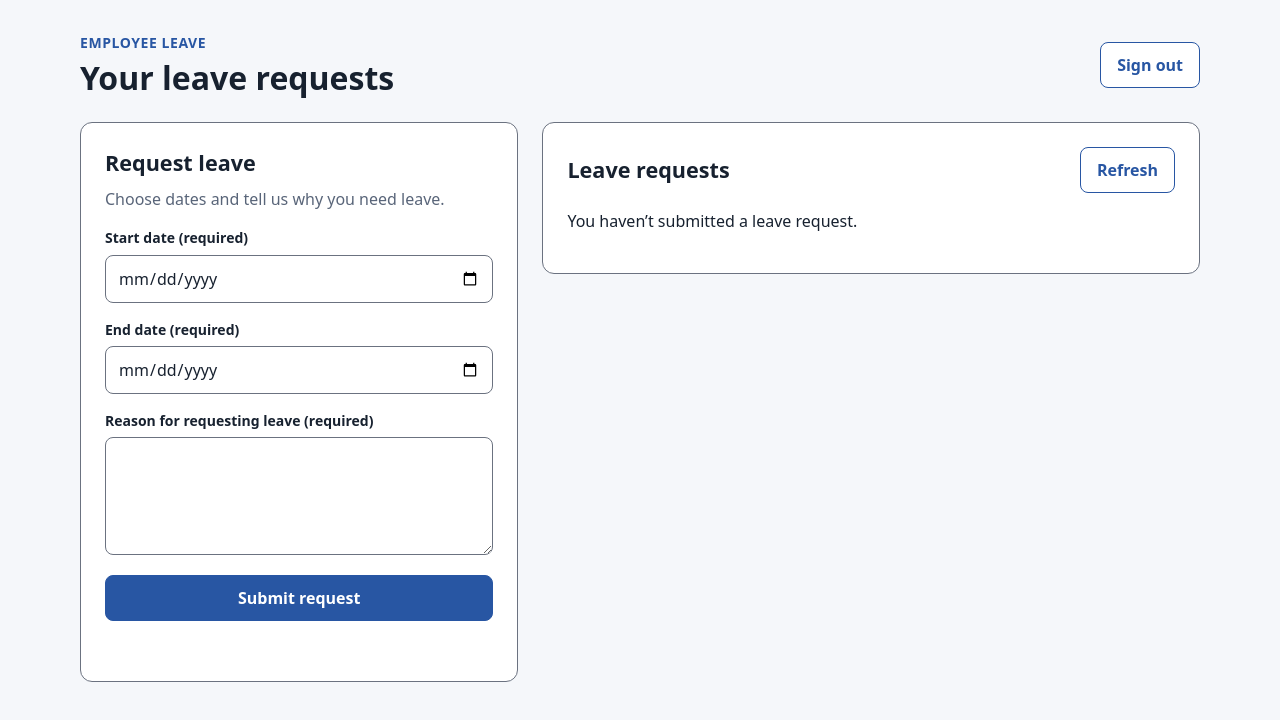
Test: EmployeeDashboard submission feedback › keeps the saved request visible when the follow-up list refresh fails
This screenshot has width=1280, height=720.
Expected: the heading "Your leave requests" is shown, 80,59 -> 394,98
Step 1. Type "2099-01-01" into the date field labelled "Start date (required)" → (299, 279), box 105,255 -> 493,303
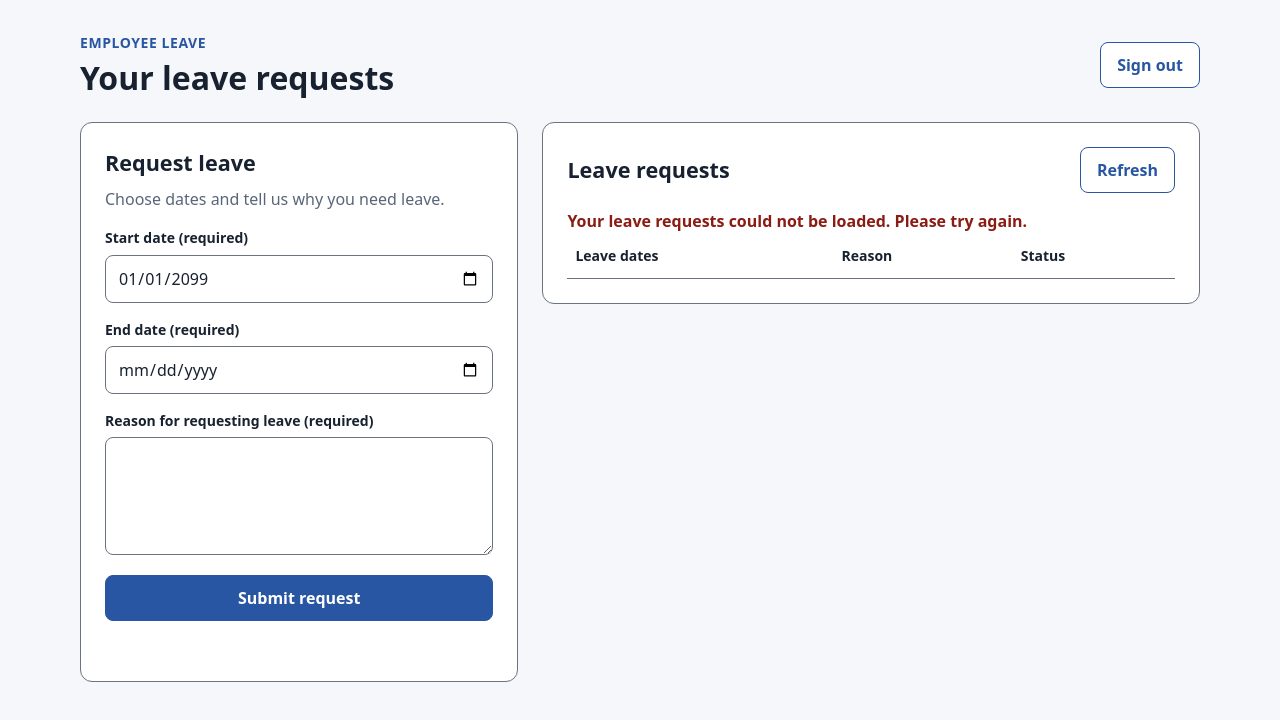
Step 2. Type "2099-01-01" into the date field labelled "End date (required)" → (299, 370), box 105,346 -> 493,394
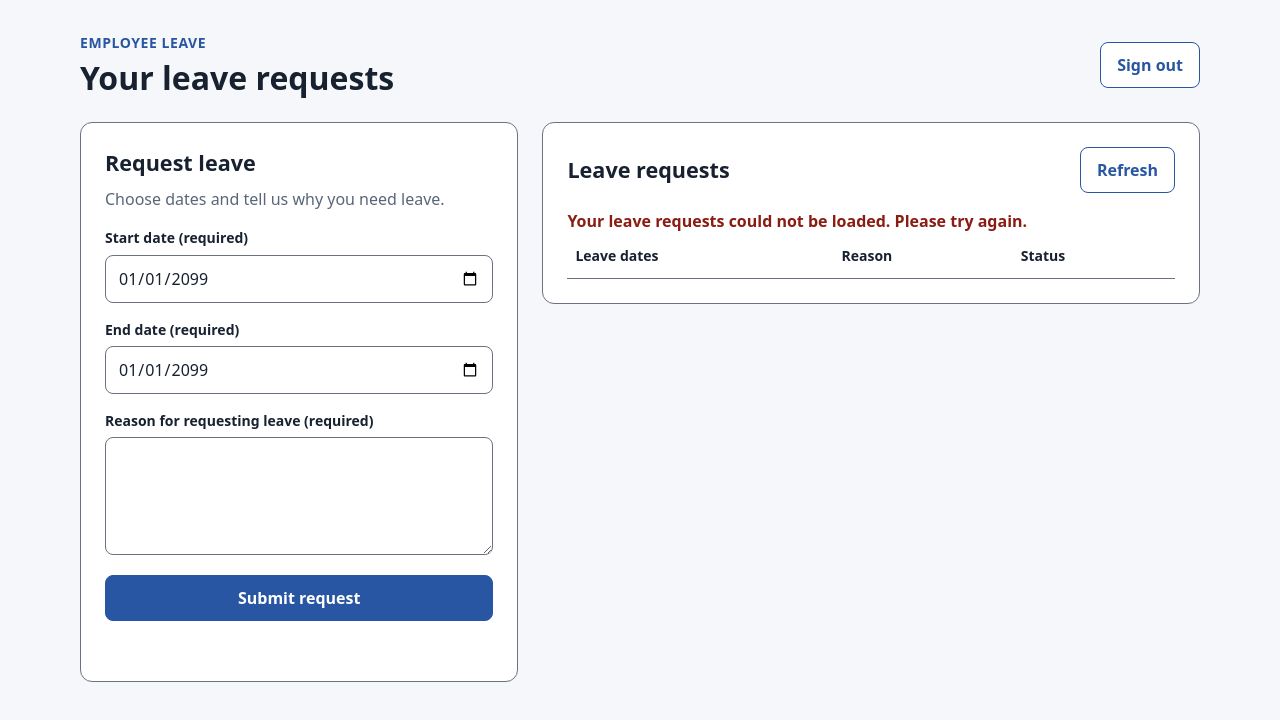
Step 3. Type "Saved request" into the text box labelled "Reason for requesting leave (required)" → (299, 496), box 105,437 -> 493,555
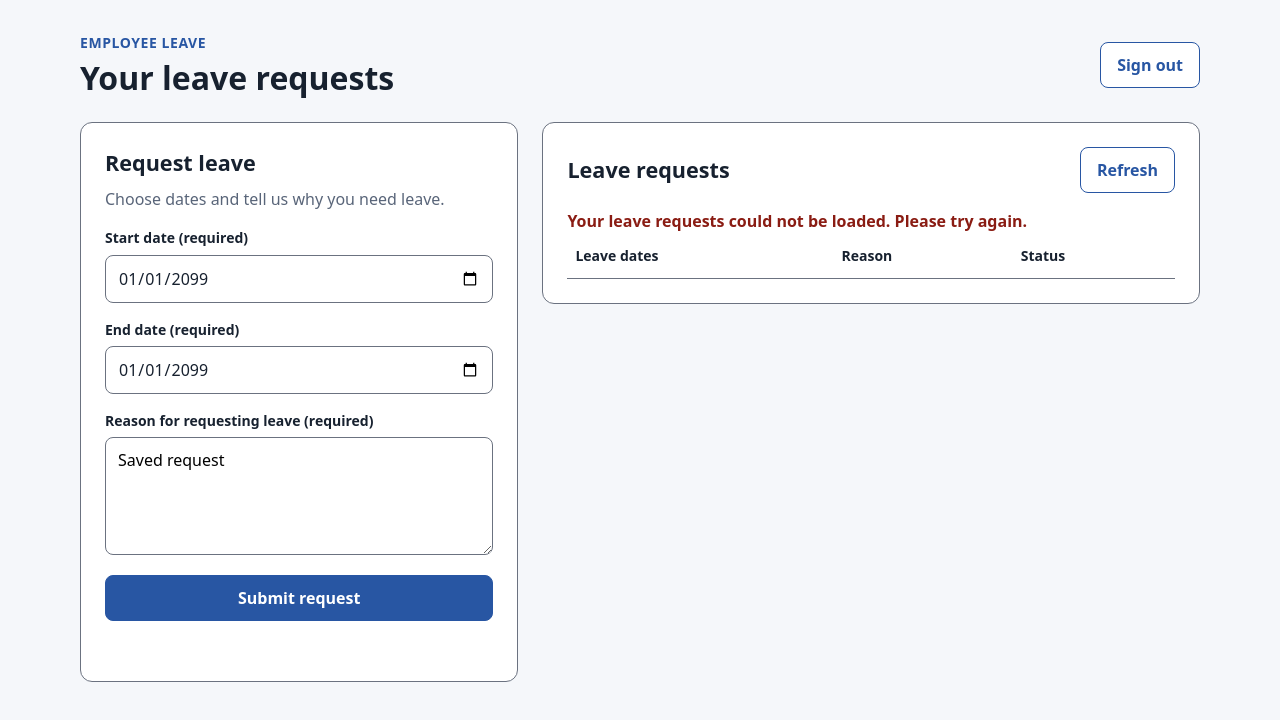
Step 4. Click the button "Submit request" → (299, 598), box 105,575 -> 493,621
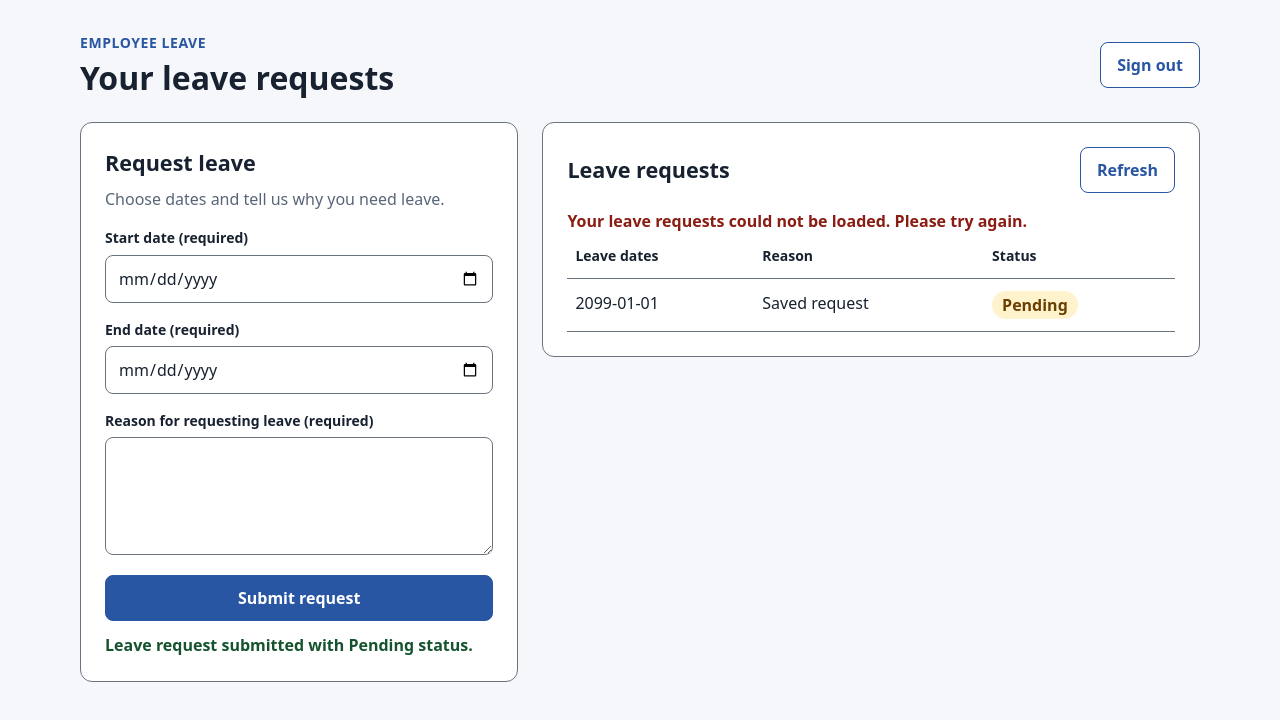
Now the text "Your leave requests could not be loaded. Please try again." is shown, box 567,210 -> 1027,232
Now the text "Leave request submitted with Pending status." is shown, box 105,633 -> 493,657
Now the text "Saved request" is shown, box 754,278 -> 984,331
